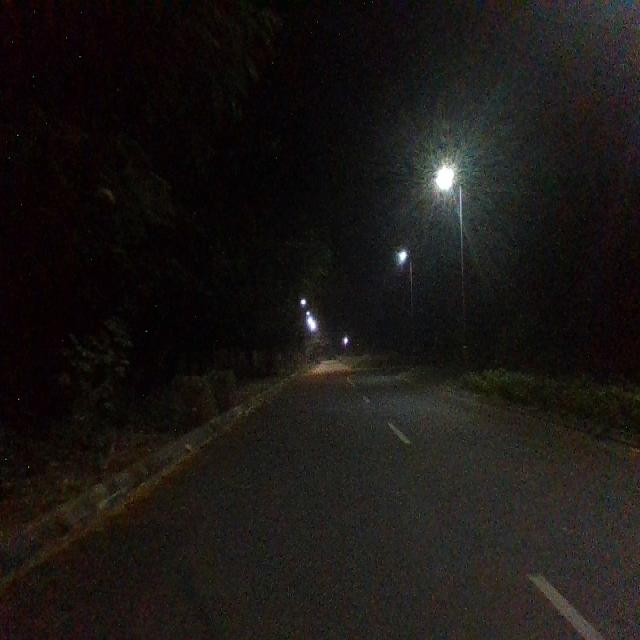lane: (0, 370, 584, 640)
